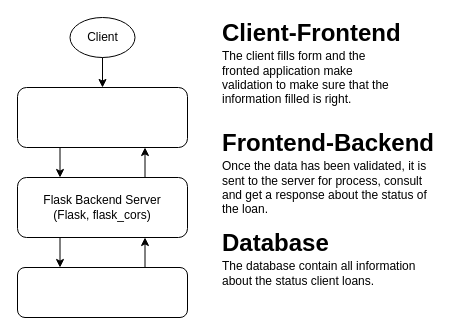
This 465x335 diagram has some shape labels left out. The shapes that lost their labels are listed below. From the top down, each one's centre as x and y in pixels, then its label:
the point at 102,117: VueJS Frontend Application (Vuejs, axios)
the point at 102,292: Database
